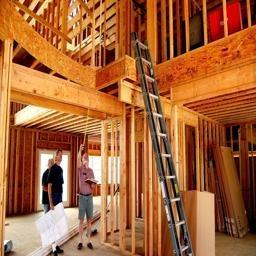no hat: (53, 147, 70, 168), (80, 148, 95, 170), (46, 154, 58, 170)
no vest: (77, 165, 98, 206), (48, 165, 70, 204), (40, 163, 54, 202)
